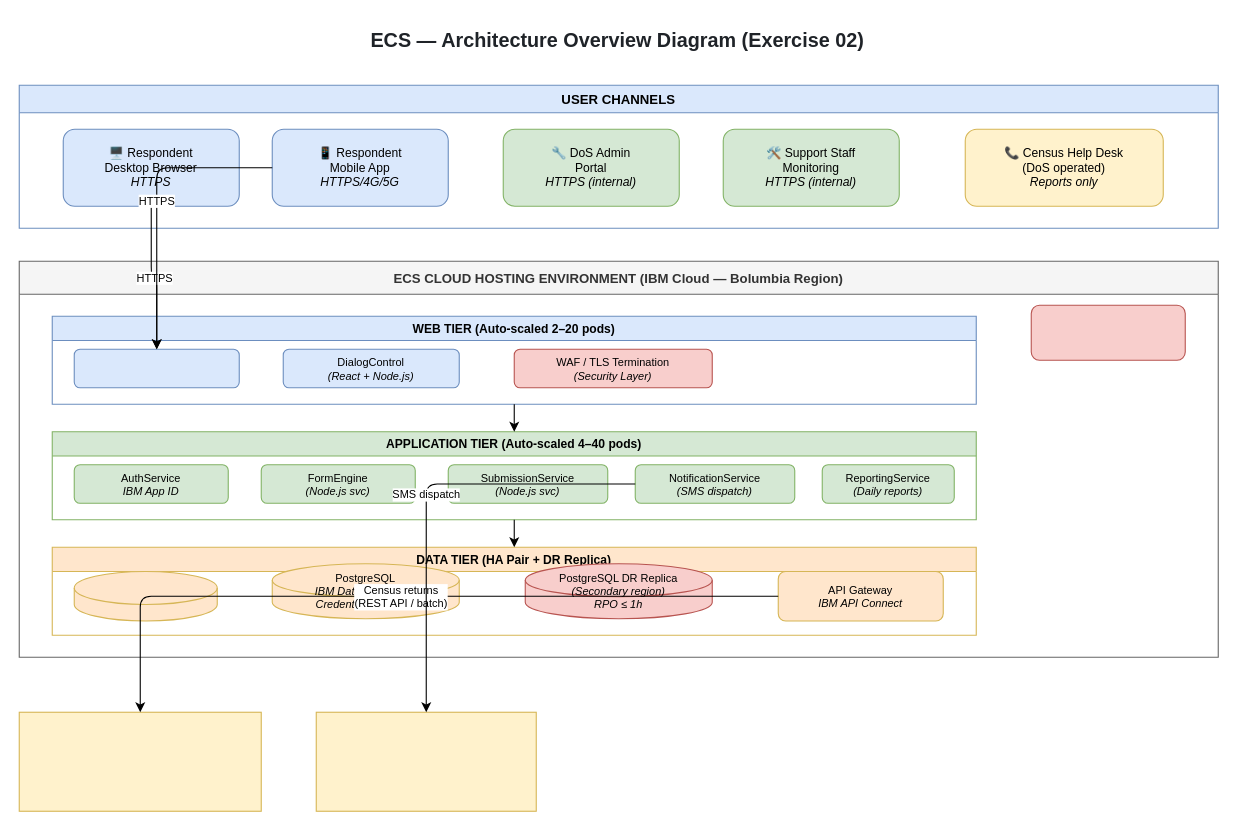
Some shapes in this 1238 by 831 pixel diagram are drawn without their labels. The shapes that lost their labels are listed below. From the top down, each one's centre as x and y in pixels, then its label:
(x=1107, y=332): 🔁 HA: Auto-scaled (Census Night)
(x=156, y=368): Load Balancer (IBM Cloud LB)
(x=145, y=595): Session Cache IBM Redis (HA)
(x=139, y=761): DoS Electronic Census Processing System Existing DoS Backend (Census database)
(x=425, y=761): SMS Gateway Mobile phone network (Collector notifications)
